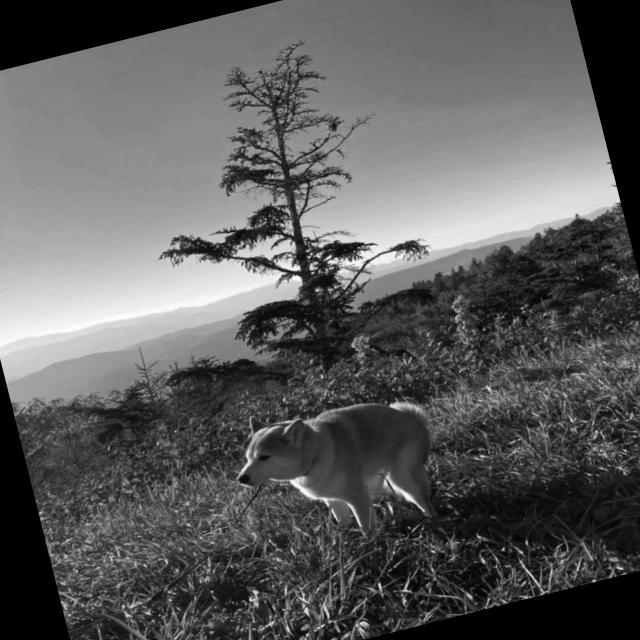squatting: (214, 368, 462, 568)
